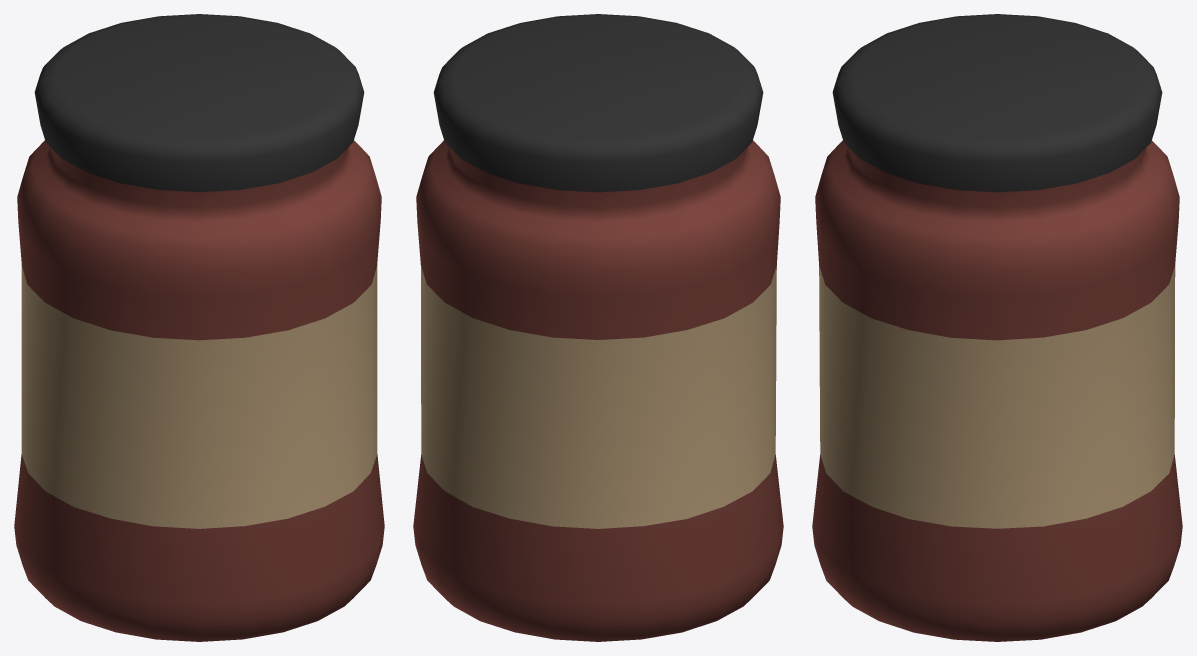
The model's file is jam_bottle.fbx.
The picture shows the model from 3 angles, left to right: view 1: azimuth 30°, elevation 25°; view 2: azimuth 150°, elevation 25°; view 3: azimuth 270°, elevation 25°; orthographic projection.
Visible parts, largest first — view 1: jam_bottle; view 2: jam_bottle; view 3: jam_bottle.
Part boxes in pixels (x1,y1,x2,y2): jam_bottle: (14,14,384,641); jam_bottle: (413,14,783,641); jam_bottle: (812,14,1182,641).
Size of the model in its own units: 7.82 by 11.52 by 7.82.
